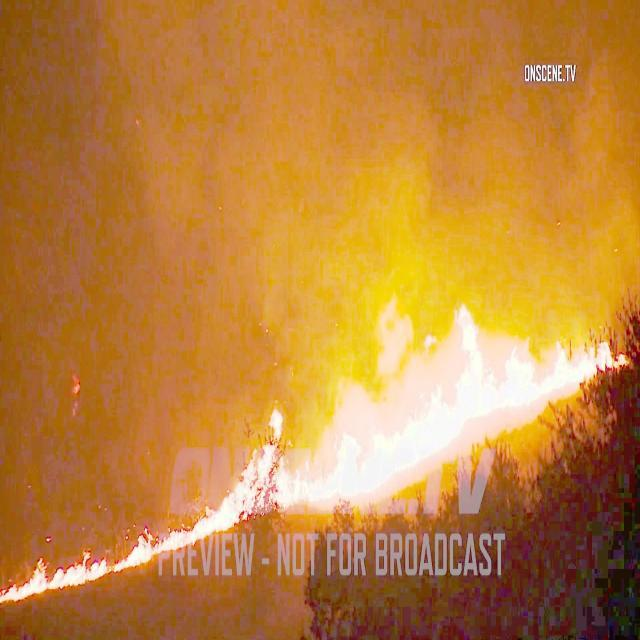Fire: (1, 404, 333, 608), (332, 310, 640, 514)
